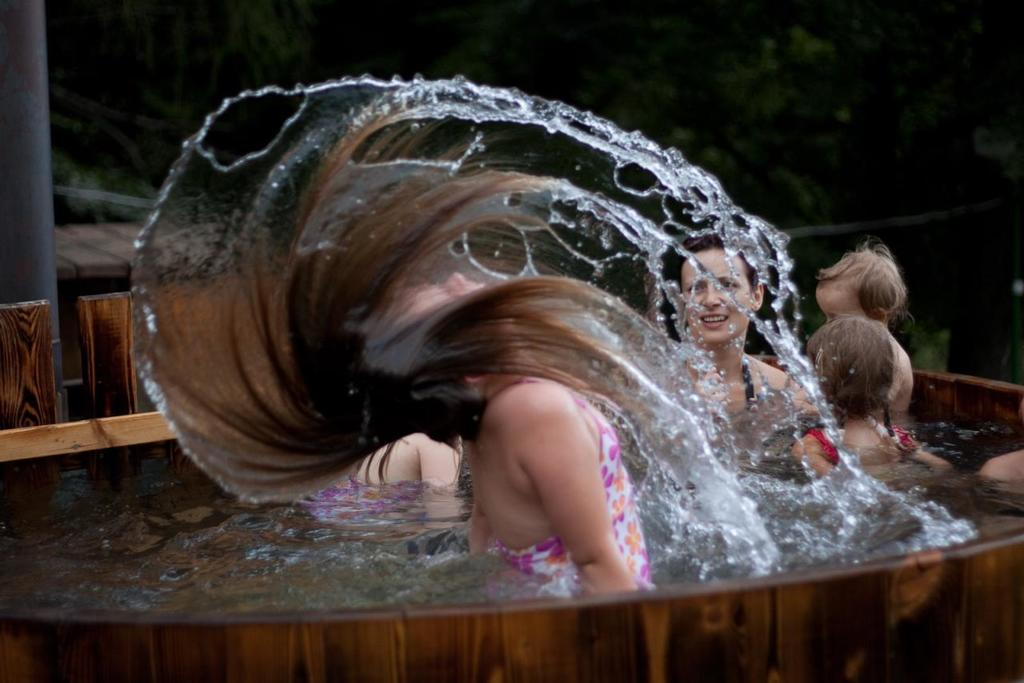person: (799, 312, 939, 487)
